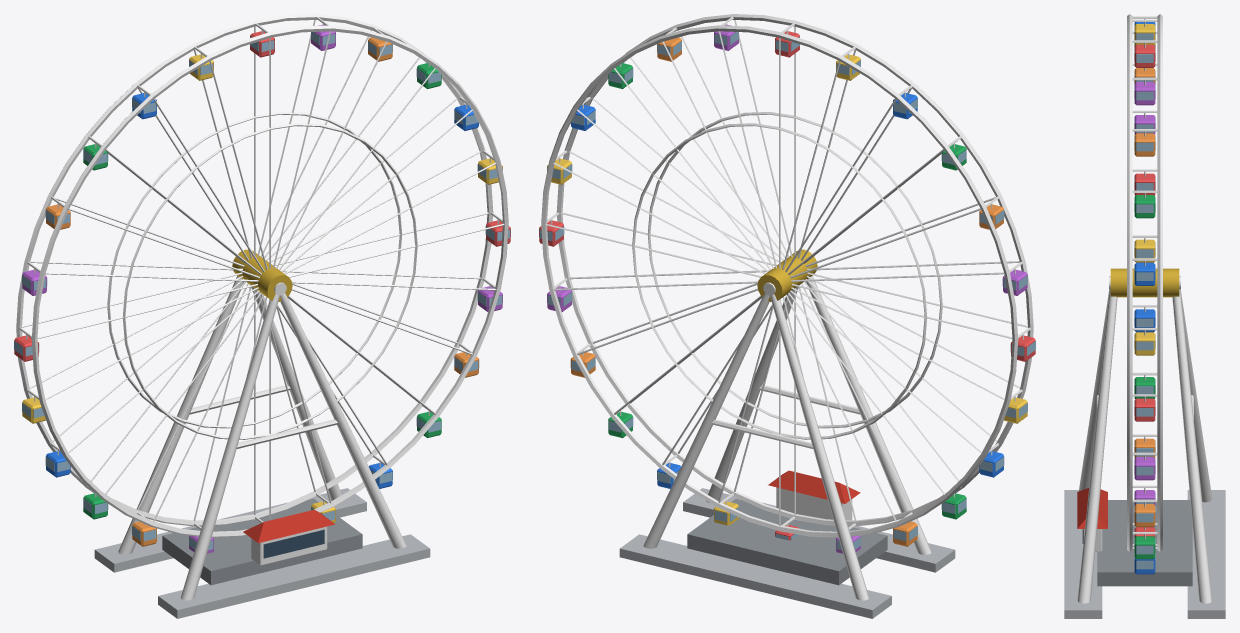
File: ferris_wheel.glb
The picture shows the model from 3 angles, left to right: view 1: azimuth 30°, elevation 25°; view 2: azimuth 150°, elevation 25°; view 3: azimuth 270°, elevation 25°; orthographic projection. The views are drawn at different scales.
Parts seen in each view (by area): view 1: ferris_wheel; view 2: ferris_wheel; view 3: ferris_wheel.
Part boxes in pixels (x1,y1,x2,y2): ferris_wheel: (14,14,510,618); ferris_wheel: (539,14,1035,618); ferris_wheel: (1064,14,1225,618).
Size of the model in its own units: 57.94 by 60.58 by 17.
